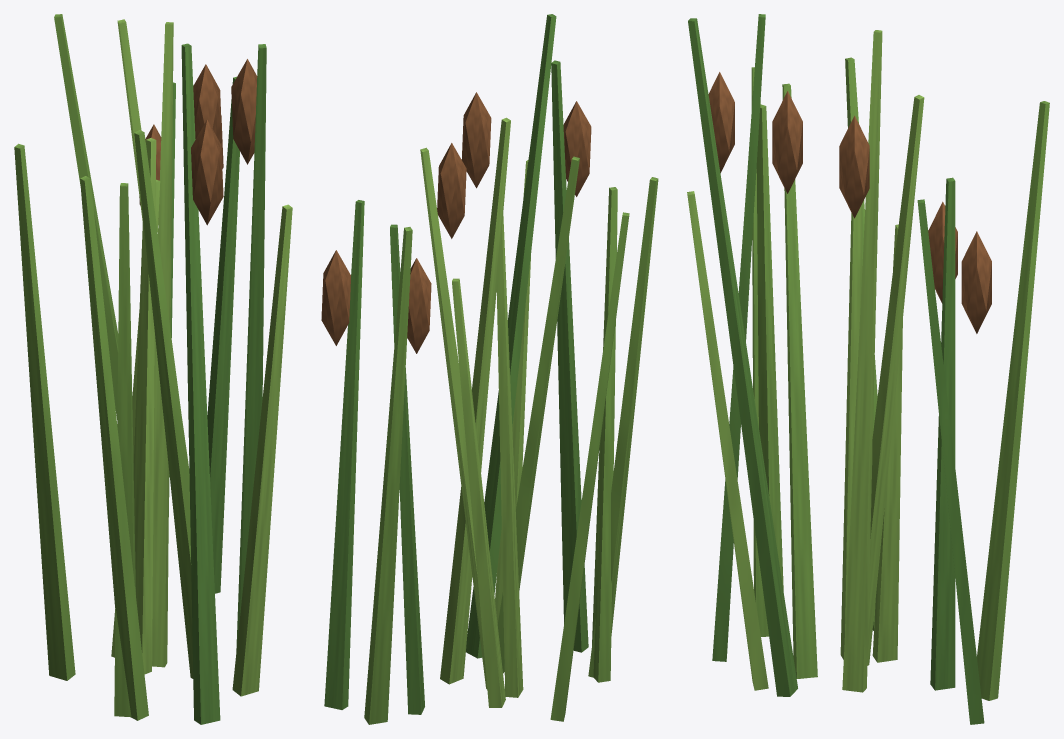
Rendered from water_reeds_01.glb.
The picture shows the model from 3 angles, left to right: view 1: azimuth 30°, elevation 25°; view 2: azimuth 150°, elevation 25°; view 3: azimuth 270°, elevation 25°; orthographic projection. The views are drawn at different scales.
Visible parts, largest first — view 1: water_reeds_01; view 2: water_reeds_01; view 3: water_reeds_01.
Boxes of the visible parts, box(x1,y1,x2,y2) form: water_reeds_01: box(14, 14, 292, 724); water_reeds_01: box(321, 14, 658, 724); water_reeds_01: box(687, 14, 1049, 724).
Bounding box in the file's own units: 0.8546 × 2.03 × 1.02.
Materials: 1 (1 with a texture image).
